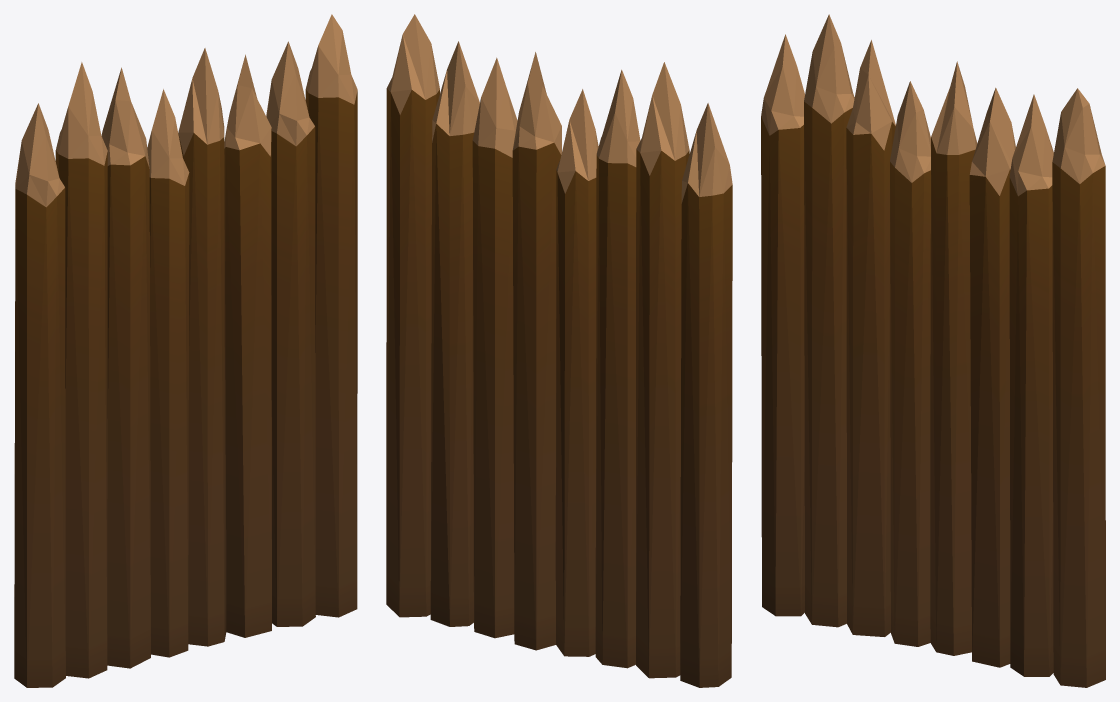
File: FenceBig_05.fbx
The picture shows the model from 3 angles, left to right: view 1: azimuth 30°, elevation 25°; view 2: azimuth 150°, elevation 25°; view 3: azimuth 330°, elevation 25°; orthographic projection.
Visible parts, largest first — view 1: FenceBig_05; view 2: FenceBig_05; view 3: FenceBig_05.
Part boxes in pixels (box(x1,y1,x2,y2)): FenceBig_05: box(14, 14, 357, 687); FenceBig_05: box(386, 14, 732, 687); FenceBig_05: box(761, 14, 1105, 687).
Size of the model in its own units: 222 by 384 by 32.2.
